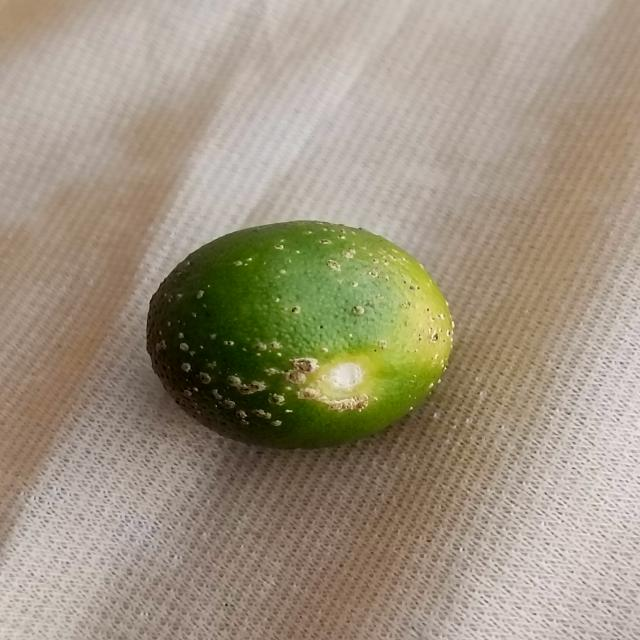scab: (152, 225, 450, 446)
